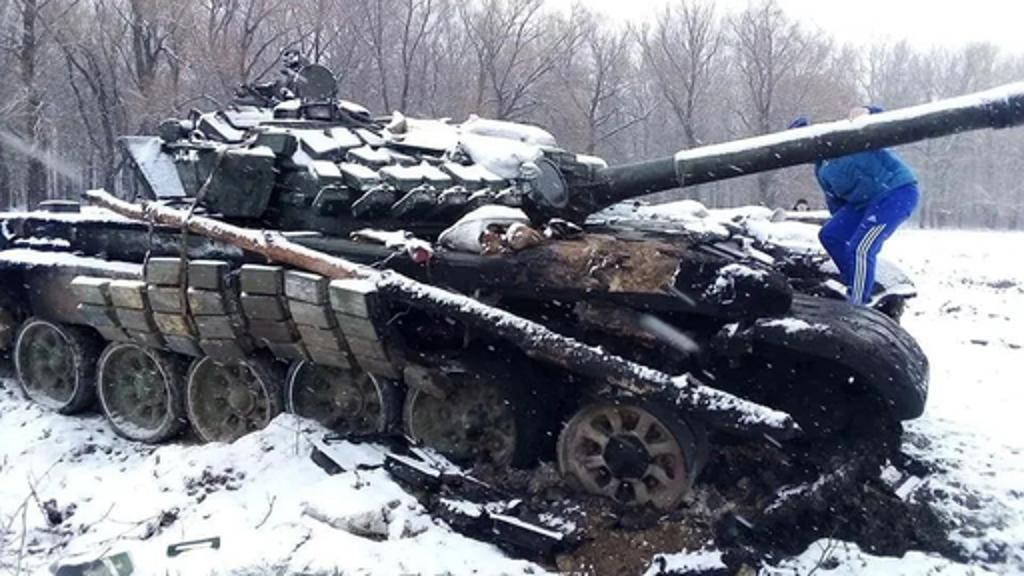TANK: (0, 72, 1008, 542)
